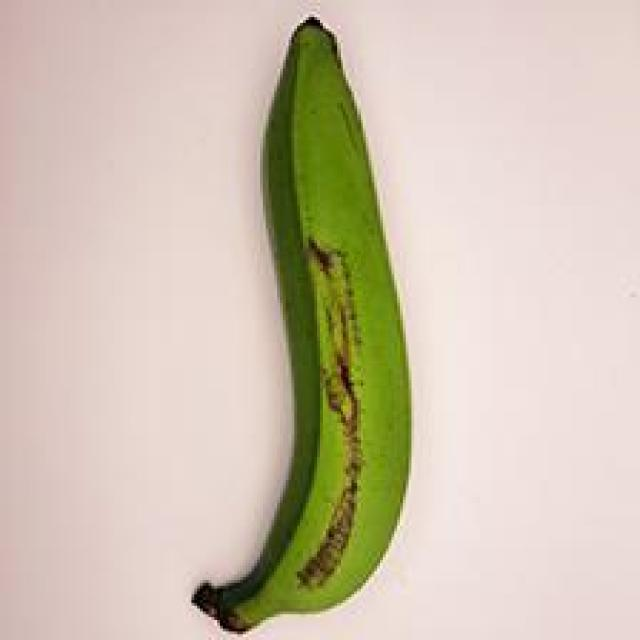Raw: (178, 9, 437, 636)
